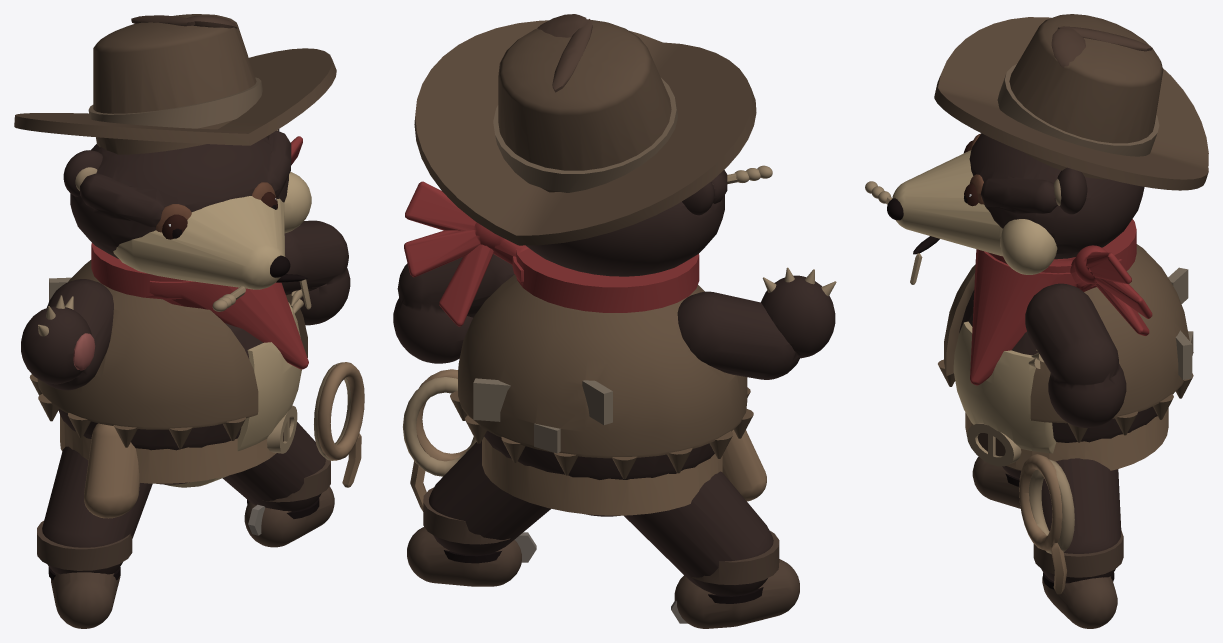
Rendered from dustcub.glb.
3 renders of one model, left to right at view 1: azimuth 30°, elevation 25°; view 2: azimuth 150°, elevation 25°; view 3: azimuth 270°, elevation 25°, orthographic. The views are drawn at different scales.
Visible parts, largest first — view 1: creature; view 2: creature; view 3: creature.
Boxes of the visible parts, box(x1,y1,x2,y2) form: creature: box(14, 14, 364, 628); creature: box(393, 14, 836, 628); creature: box(865, 14, 1208, 628).
Bounding box in the file's own units: 0.702 × 1 × 0.5775.
